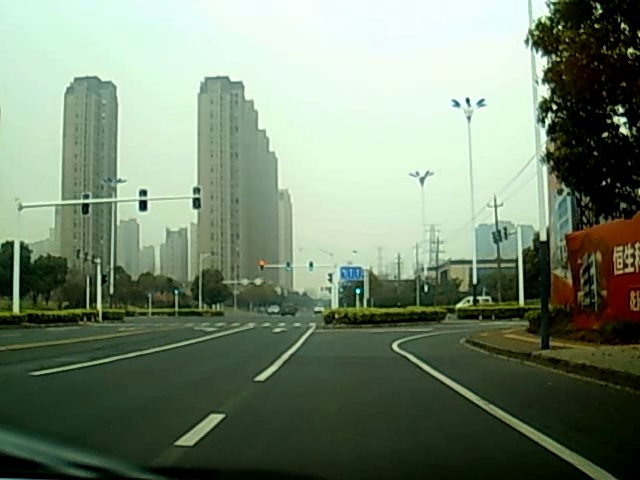Traffic_Light_go: (285, 261, 292, 273), (309, 261, 313, 271)
Traffic_Light_stop: (258, 259, 266, 271)
